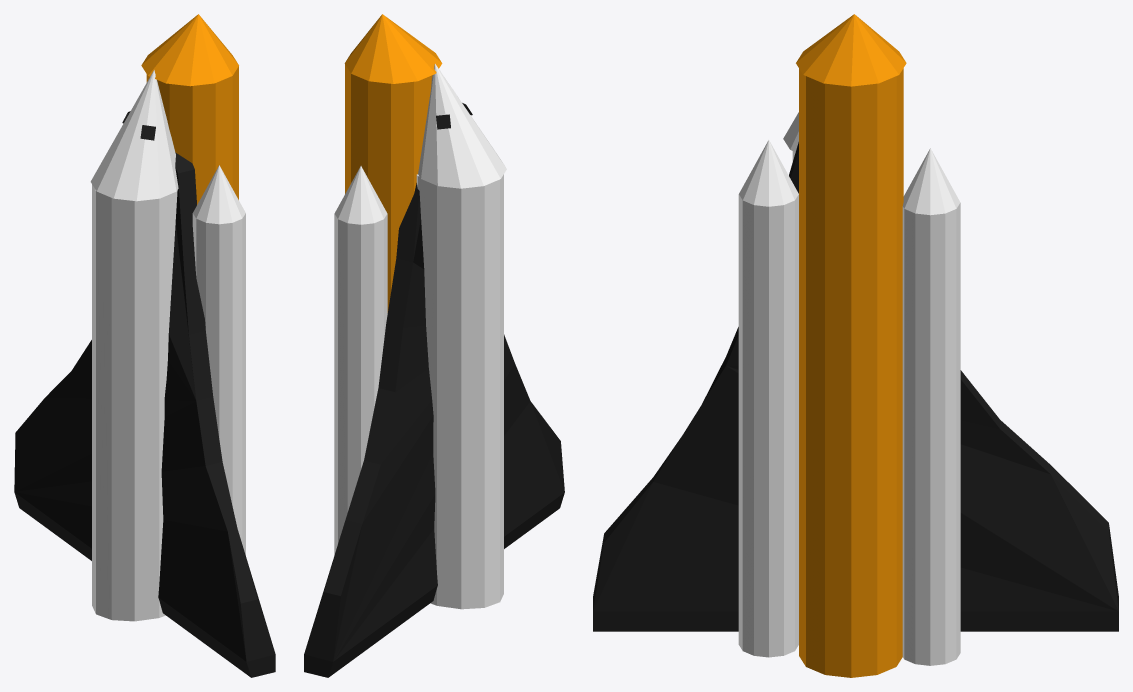
The model's file is adrian-x27-s-space-shuttle-2I_YhfMhsfT.glb.
The picture shows the model from 3 angles, left to right: view 1: azimuth 30°, elevation 25°; view 2: azimuth 150°, elevation 25°; view 3: azimuth 270°, elevation 25°; orthographic projection. The views are drawn at different scales.
Parts seen in each view (by area): view 1: Node; view 2: Node; view 3: Node.
Part boxes in pixels (x1=…): Node: x1=14, y1=14, x2=275, y2=677; Node: x1=304, y1=14, x2=564, y2=677; Node: x1=593, y1=14, x2=1118, y2=677.
Bounding box in the file's own units: 0.59 × 2.25 × 1.66.
